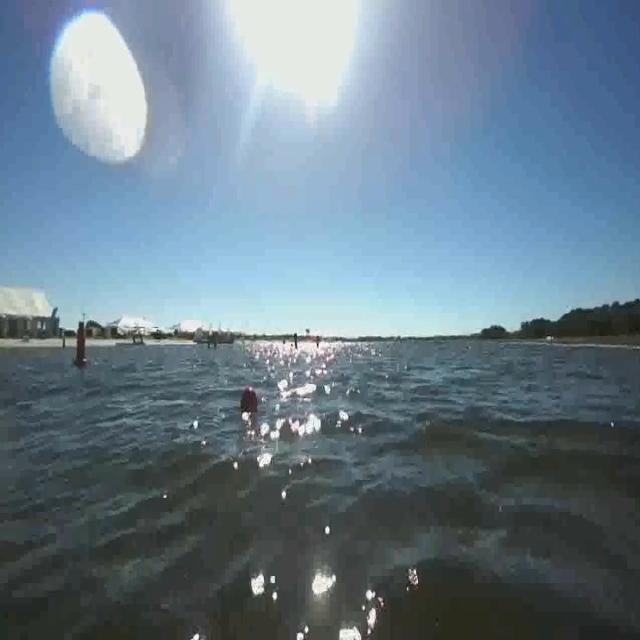red-buoy: (238, 378, 260, 420)
red-column-buoy: (72, 322, 89, 369)
